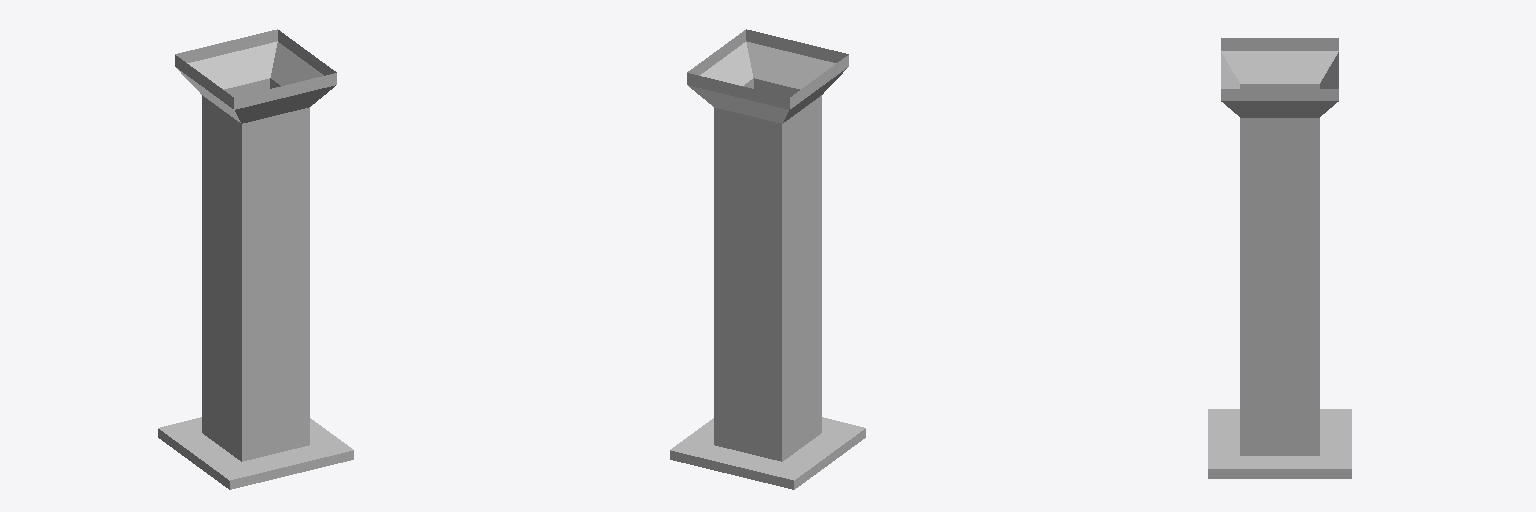
Rendered from pillar.obj.
The picture shows the model from 3 angles: view 1: azimuth 30°, elevation 25°; view 2: azimuth 150°, elevation 25°; view 3: azimuth 270°, elevation 25°; orthographic projection.
Visible parts, largest first — view 1: pCube1; view 2: pCube1; view 3: pCube1.
Boxes of the visible parts, box(x1,y1,x2,y2) form: pCube1: box(158, 29, 353, 489); pCube1: box(670, 29, 865, 489); pCube1: box(1208, 38, 1351, 478).
Bounding box in the file's own units: 1.99 × 5.88 × 1.99.